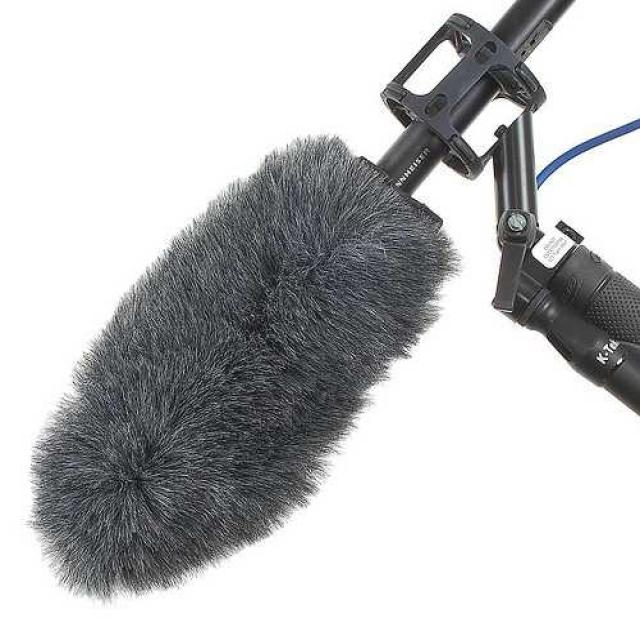microphone: (19, 132, 480, 598)
